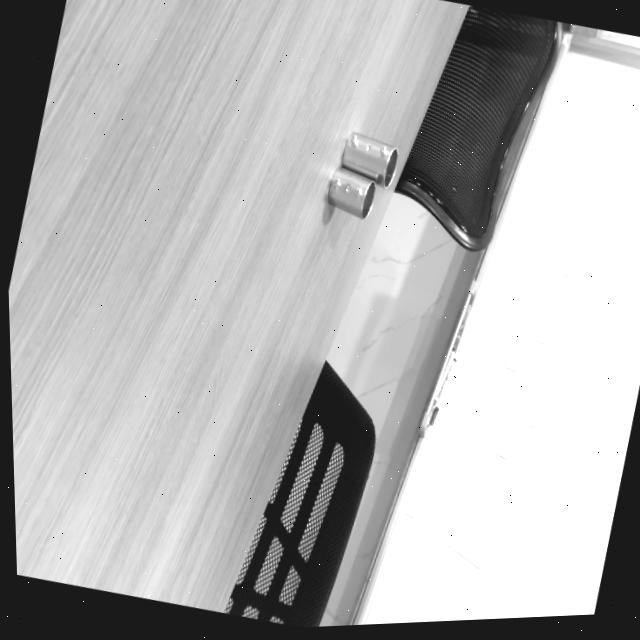Co_Lon: (335, 130, 402, 188)
Co_Nho: (321, 165, 380, 220)
